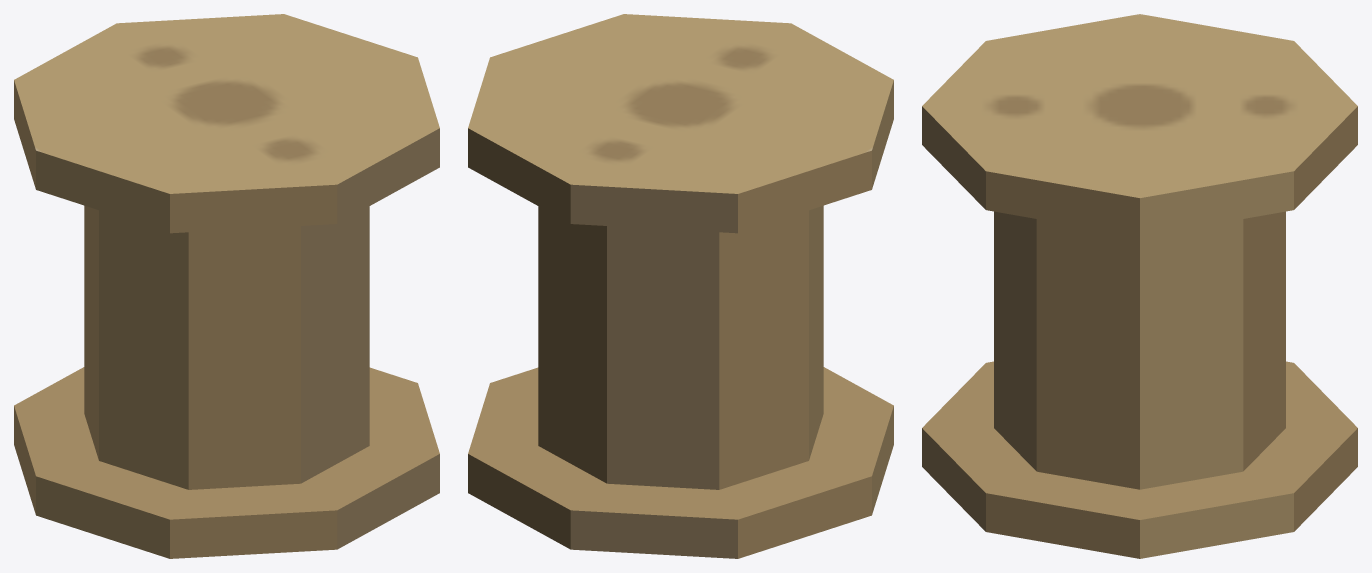
File: SM_Prop_Spool_01.fbx
The picture shows the model from 3 angles, left to right: view 1: azimuth 30°, elevation 25°; view 2: azimuth 150°, elevation 25°; view 3: azimuth 270°, elevation 25°; orthographic projection.
Parts seen in each view (by area): view 1: SM_Prop_Spool_01; view 2: SM_Prop_Spool_01; view 3: SM_Prop_Spool_01.
Boxes of the visible parts, box(x1,y1,x2,y2) form: SM_Prop_Spool_01: box(14, 14, 439, 558); SM_Prop_Spool_01: box(468, 14, 893, 558); SM_Prop_Spool_01: box(922, 14, 1357, 558).
Size of the model in its own units: 2.32 by 2.12 by 2.32.
